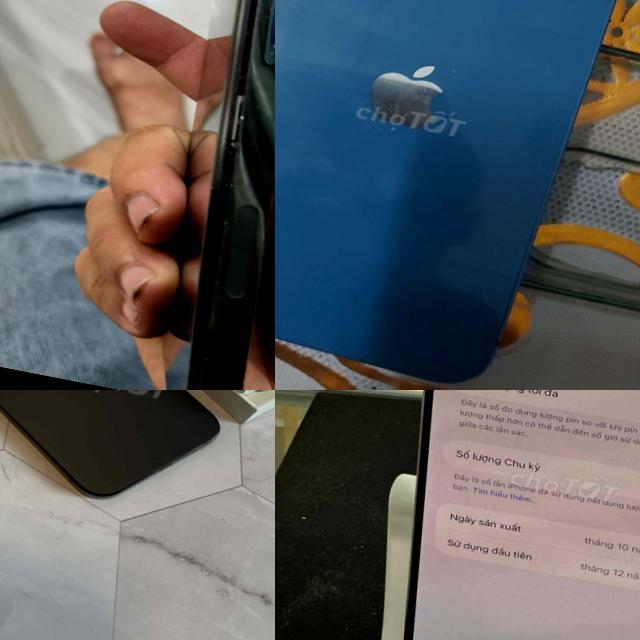gen_12_13: (275, 0, 640, 390), (120, 0, 275, 390)
gen_15: (338, 390, 640, 640), (0, 390, 257, 529)
scratch: (177, 98, 275, 390), (228, 0, 275, 88)
